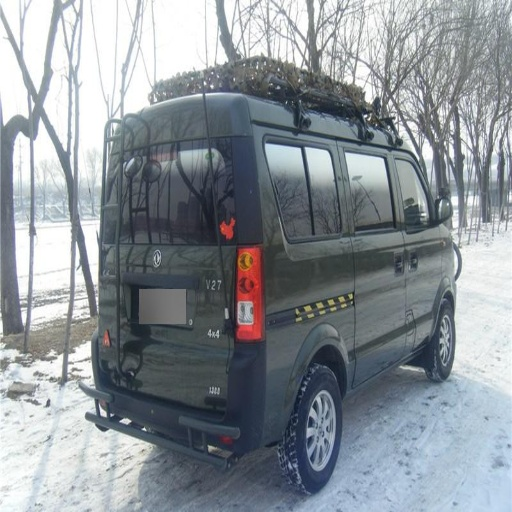trunk: (104, 210, 241, 406), (248, 240, 354, 406), (126, 122, 251, 196)
